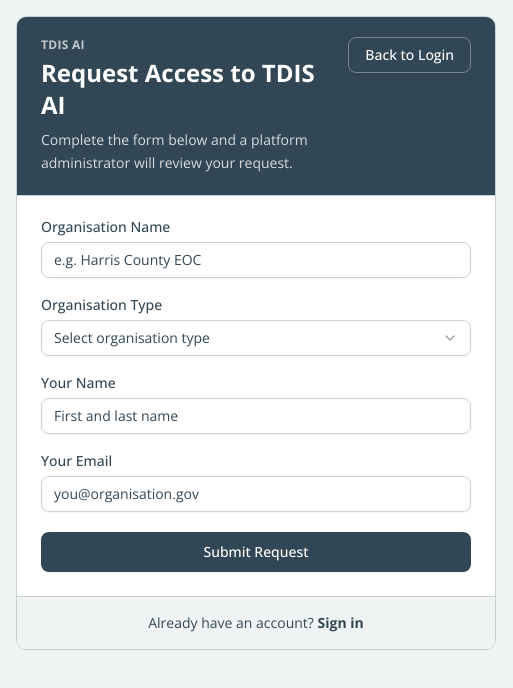
RequestAccessPage › clears a field error when the user edits that field
Click the button "Submit Request".
click(256, 552)  # box [41,532,471,572]
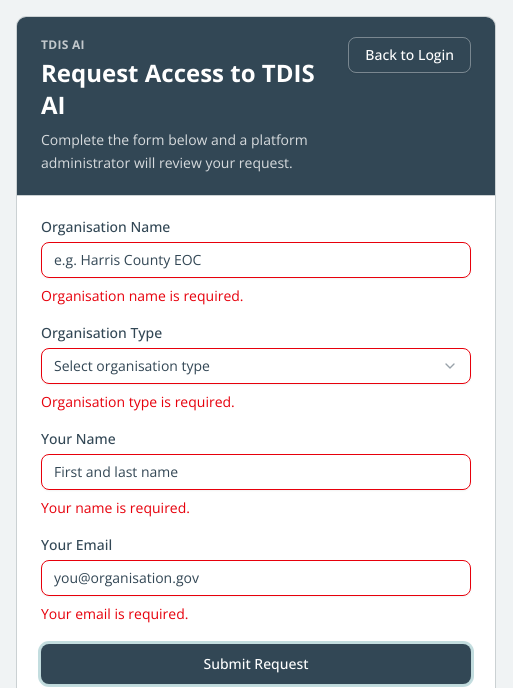
Result: the text "Organisation name is required." is shown at [41,286,244,304]
Type "TX" into the field labelled "Organisation Name".
click(256, 260); type("TX")  # box [41,242,471,278]
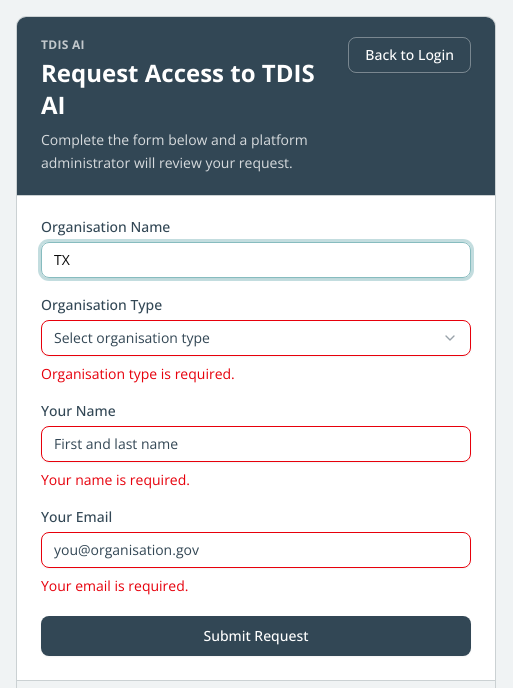
Result: the text "Organisation name is required." is gone
